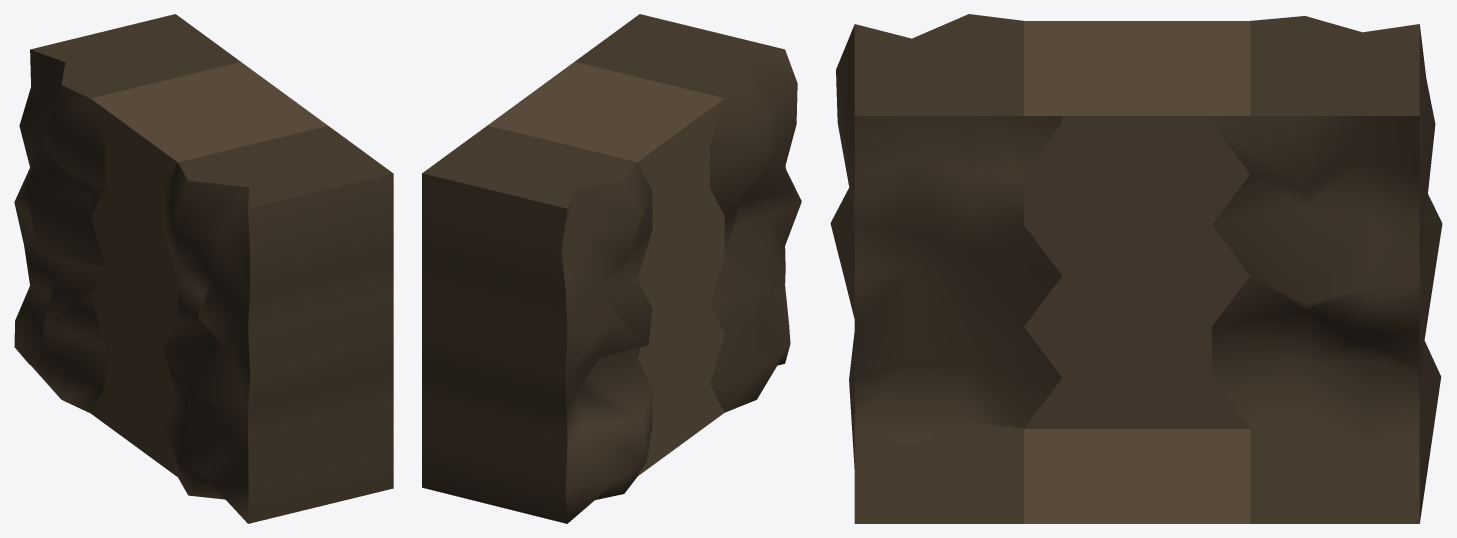
The model's file is earthSpellWall.fbx.
3 views of the same model, side by side, from view 1: azimuth 30°, elevation 25°; view 2: azimuth 150°, elevation 25°; view 3: azimuth 270°, elevation 25° (orthographic). The views are drawn at different scales.
Parts seen in each view (by area): view 1: pCube1; view 2: pCube1; view 3: pCube1.
Boxes of the visible parts, box(x1,y1,x2,y2) form: pCube1: box(14, 14, 393, 523); pCube1: box(422, 14, 801, 523); pCube1: box(830, 14, 1442, 523).
Size of the model in its own units: 3.54 by 5.85 by 7.94.
